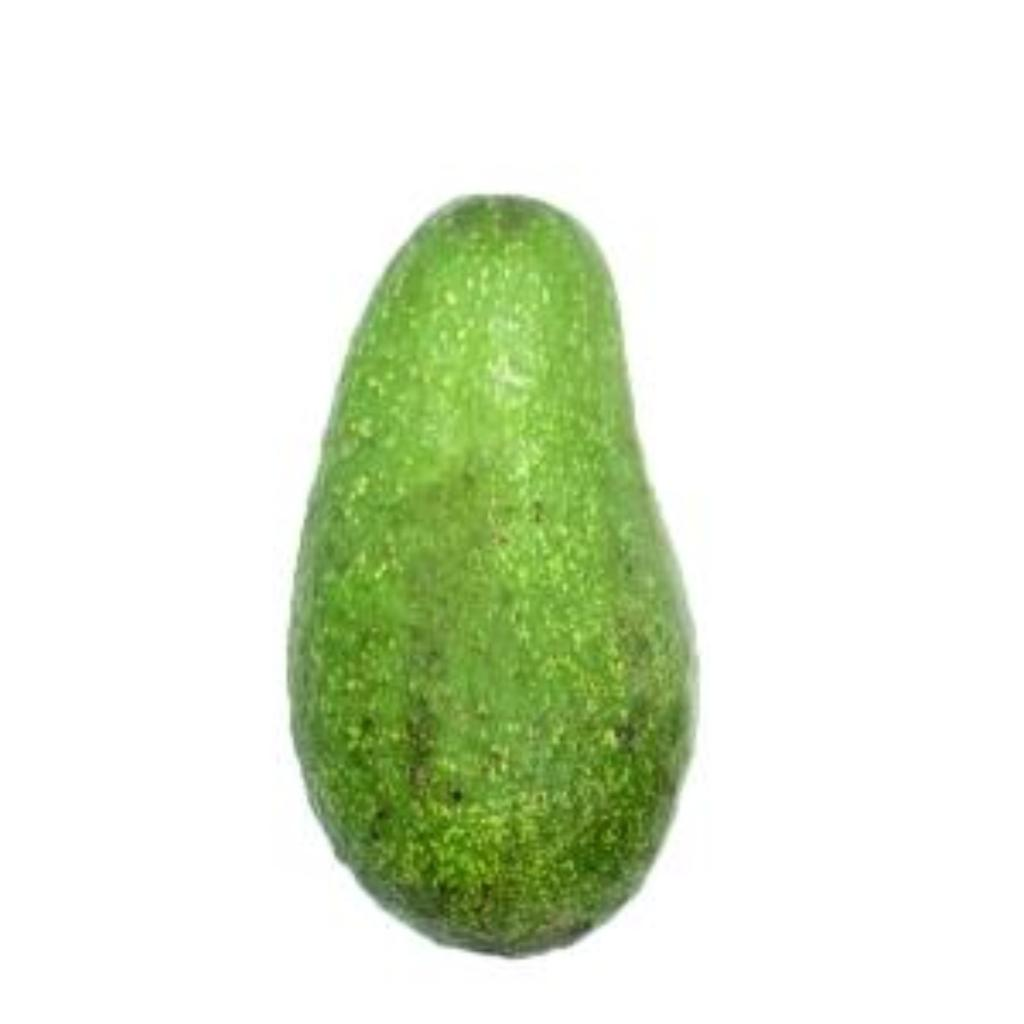cercospora_spot: (278, 176, 708, 960)
